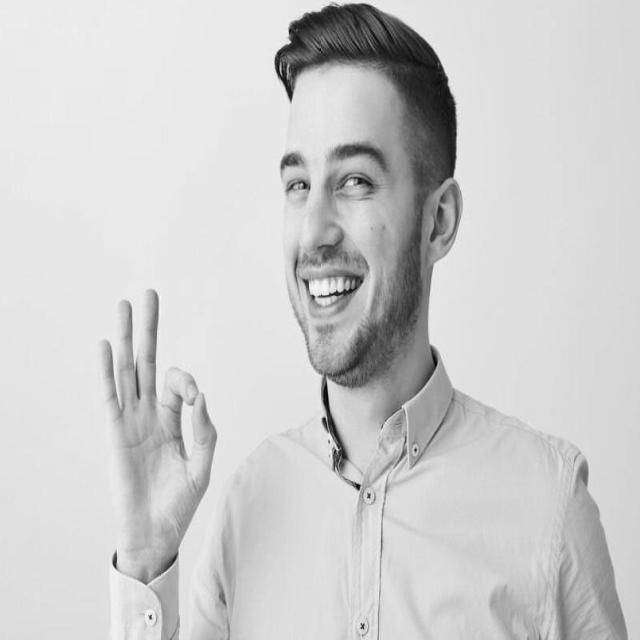perfect: (91, 279, 223, 572)
